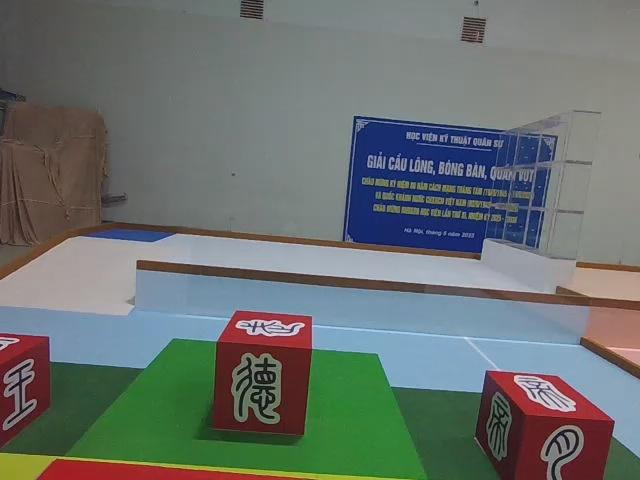R2 Fake: (471, 369, 614, 480), (209, 307, 317, 438), (0, 326, 54, 453)
